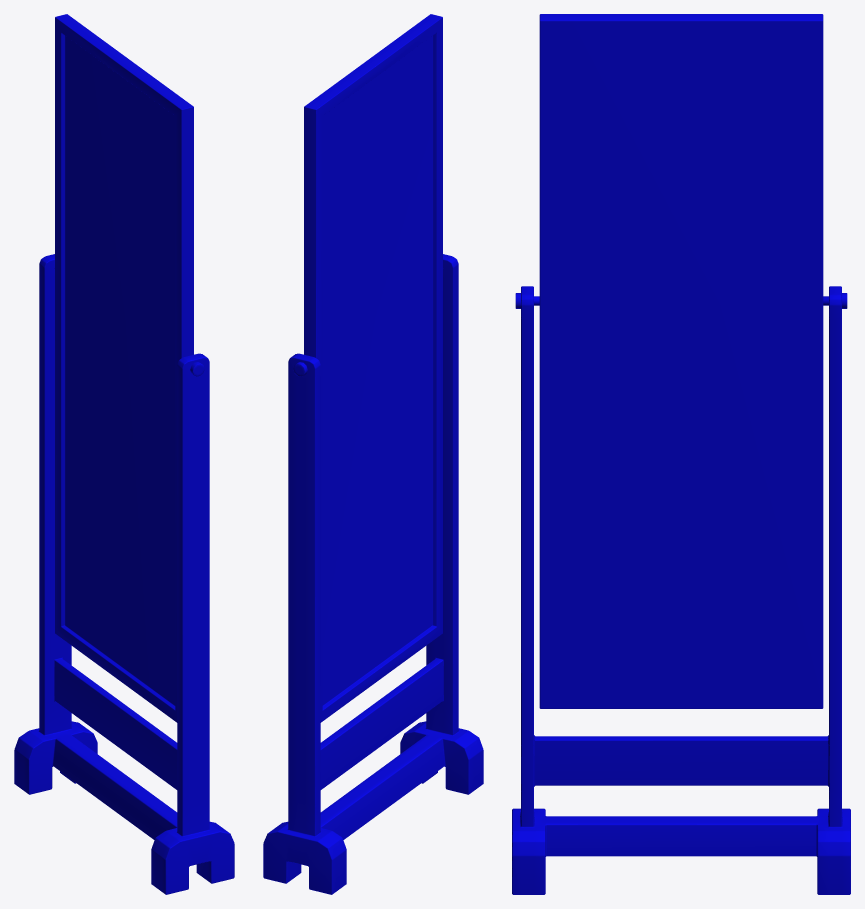
File: Story_1_Bedroom_Mirror_Updated.fbx
The picture shows the model from 3 angles, left to right: view 1: azimuth 30°, elevation 25°; view 2: azimuth 150°, elevation 25°; view 3: azimuth 270°, elevation 25°; orthographic projection. The views are drawn at different scales.
Visible parts, largest first — view 1: Mirror_Mirror, Mirror_Stand; view 2: Mirror_Mirror, Mirror_Stand; view 3: Mirror_Mirror, Mirror_Stand.
Boxes of the visible parts, x1,y1,x2,y2 form: Mirror_Mirror: [55, 14, 193, 722]; Mirror_Stand: [14, 254, 234, 894]; Mirror_Mirror: [304, 14, 442, 722]; Mirror_Stand: [263, 254, 483, 894]; Mirror_Mirror: [539, 14, 823, 708]; Mirror_Stand: [512, 286, 850, 894].
Size of the model in its own units: 20 by 212 by 75.9.
